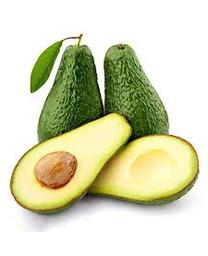avocado: (10, 113, 132, 216), (79, 133, 201, 206), (36, 44, 103, 146), (103, 43, 170, 140)
